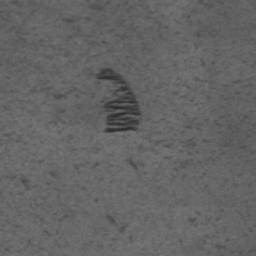Secondary rust skin: (97, 67, 142, 133)
